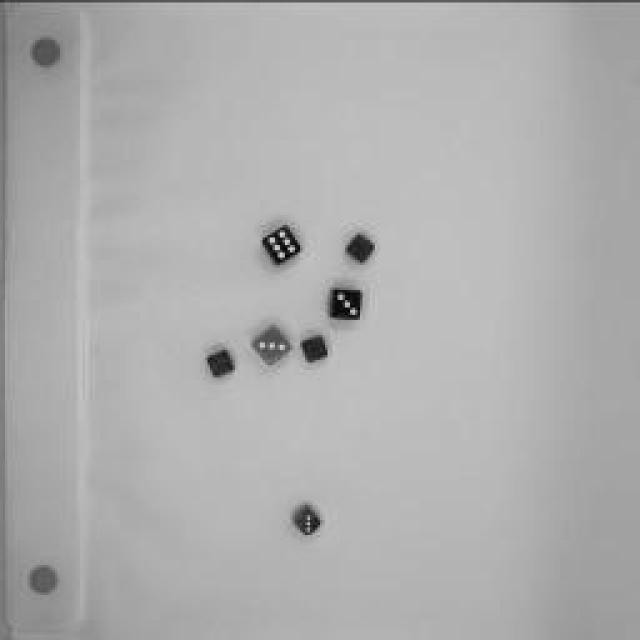dice_3: (249, 322, 296, 368), (325, 282, 365, 322), (292, 501, 326, 539), (205, 345, 240, 380)
dice_4: (342, 230, 378, 265), (300, 335, 330, 365)
dice_6: (260, 222, 305, 268)
